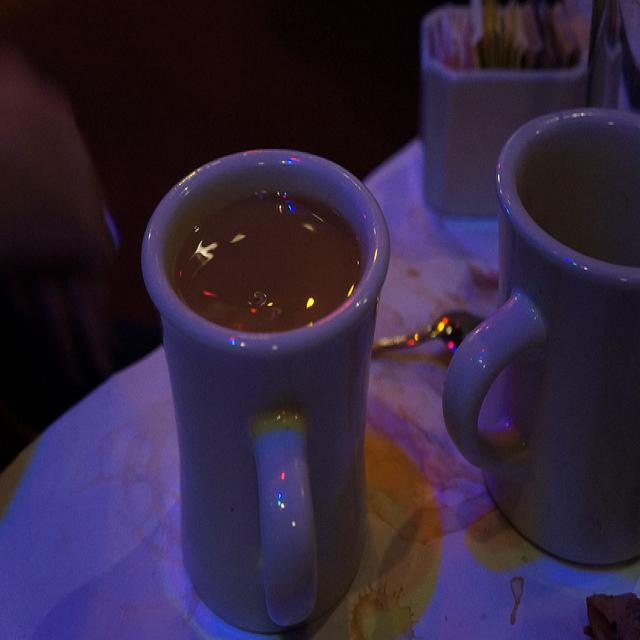Cup: (59, 143, 402, 619), (485, 116, 640, 579)
